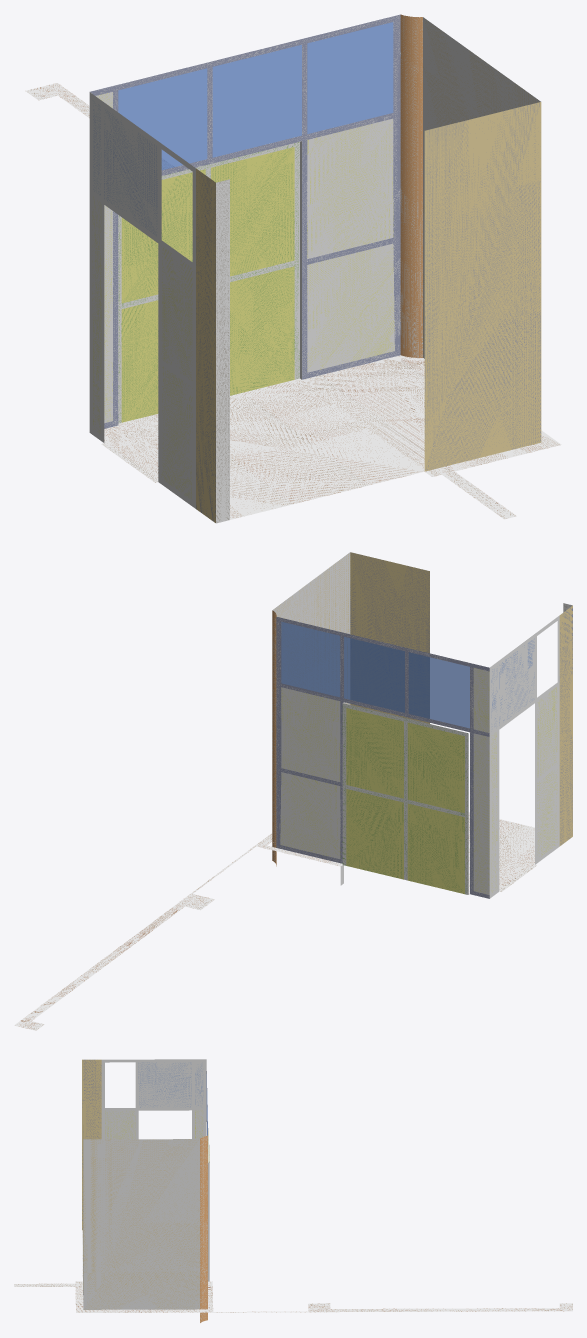
Rendered from COM030.obj.
3 renders of one model, top to bottom at view 1: azimuth 30°, elevation 25°; view 2: azimuth 150°, elevation 25°; view 3: azimuth 270°, elevation 25°, orthographic. The views are drawn at different scales.
Parts seen in each view (by area): view 1: Mesh1 Group1 Model; view 2: Mesh1 Group1 Model; view 3: Mesh1 Group1 Model.
Boxes of the visible parts, x1,y1,x2,y2 form: Mesh1 Group1 Model: (25,14,561,523); Mesh1 Group1 Model: (14,552,572,1030); Mesh1 Group1 Model: (14,1059,572,1322).
Bounding box in the file's own units: 3.18 × 3.25 × 8.92.
Materials: 11 (2 with a texture image).
